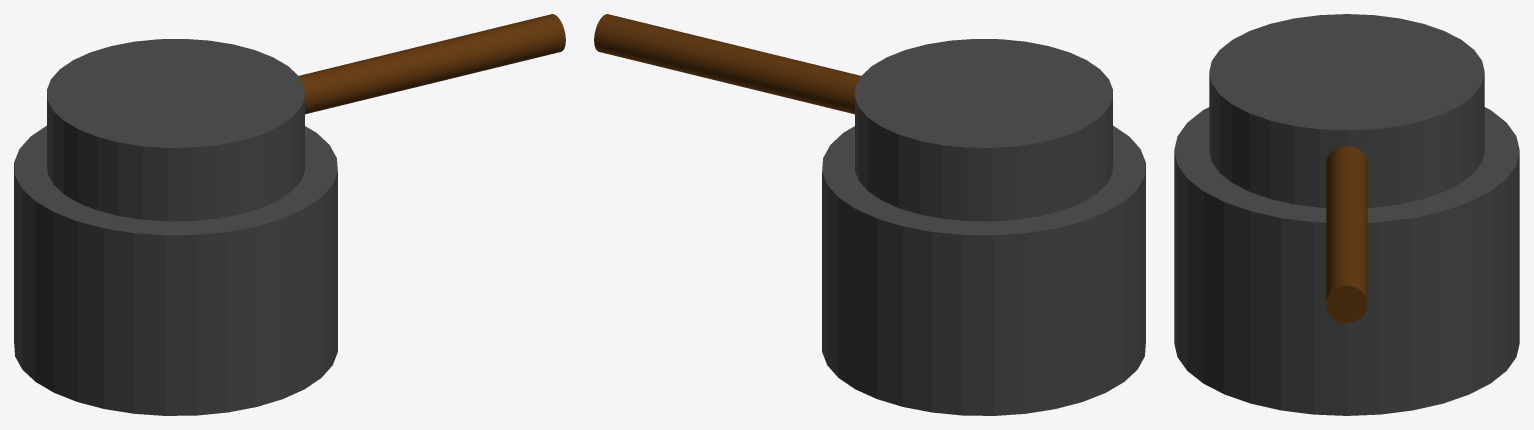
File: Grindstone.fbx
3 views of the same model, side by side, from view 1: azimuth 30°, elevation 25°; view 2: azimuth 150°, elevation 25°; view 3: azimuth 270°, elevation 25° (orthographic). The views are drawn at different scales.
Visible parts, largest first — view 1: Base, Grind Stone, Shaft; view 2: Base, Grind Stone, Shaft; view 3: Base, Grind Stone, Shaft.
Boxes of the visible parts, box(x1,y1,x2,y2) form: Base: box(14, 125, 337, 415); Grind Stone: box(47, 39, 304, 221); Shaft: box(299, 14, 565, 114); Base: box(822, 125, 1145, 415); Grind Stone: box(855, 39, 1112, 221); Shaft: box(594, 14, 860, 114); Base: box(1174, 107, 1519, 415); Grind Stone: box(1209, 14, 1484, 207); Shaft: box(1326, 146, 1367, 323).
Bounding box in the file's own units: 78.3 × 36.52 × 42.26.
